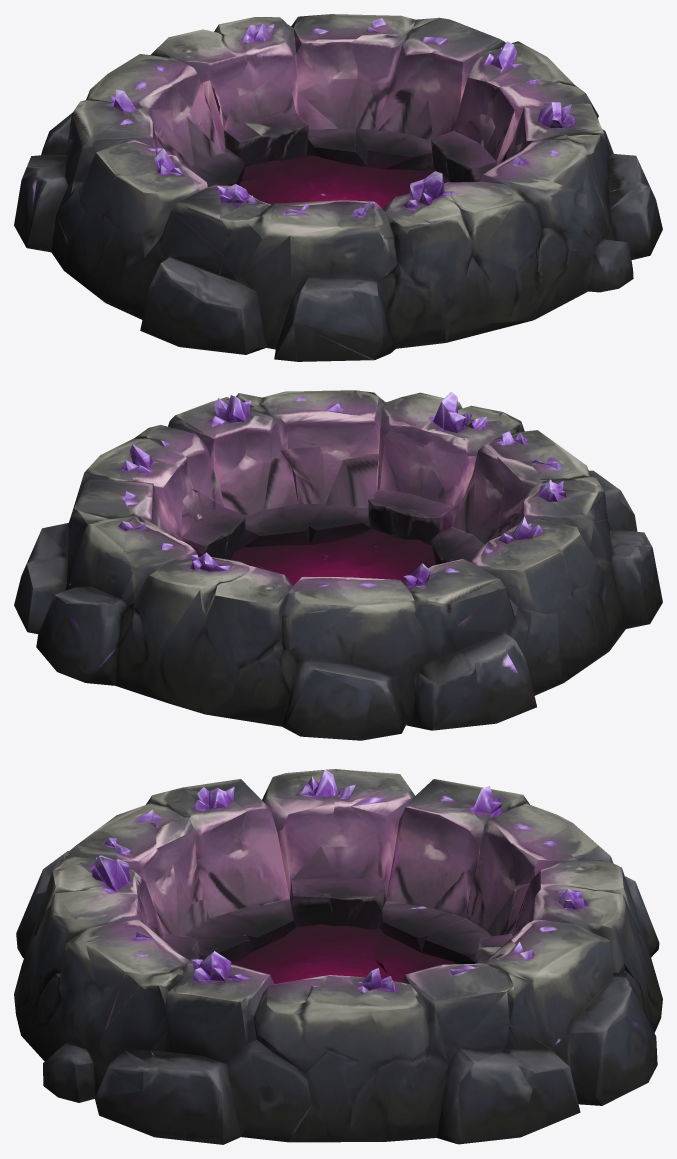
3 renders of one model, top to bottom at view 1: azimuth 30°, elevation 25°; view 2: azimuth 150°, elevation 25°; view 3: azimuth 270°, elevation 25°, orthographic. The views are drawn at different scales.
Parts seen in each view (by area): view 1: aether_vent; view 2: aether_vent; view 3: aether_vent.
Part boxes in pixels (x1=…): aether_vent: x1=14, y1=14, x2=662, y2=361; aether_vent: x1=14, y1=390, x2=662, y2=740; aether_vent: x1=14, y1=769, x2=662, y2=1144.
Size of the model in its own units: 1.9 by 0.4768 by 1.88.
Materials: 1 (1 with a texture image).
